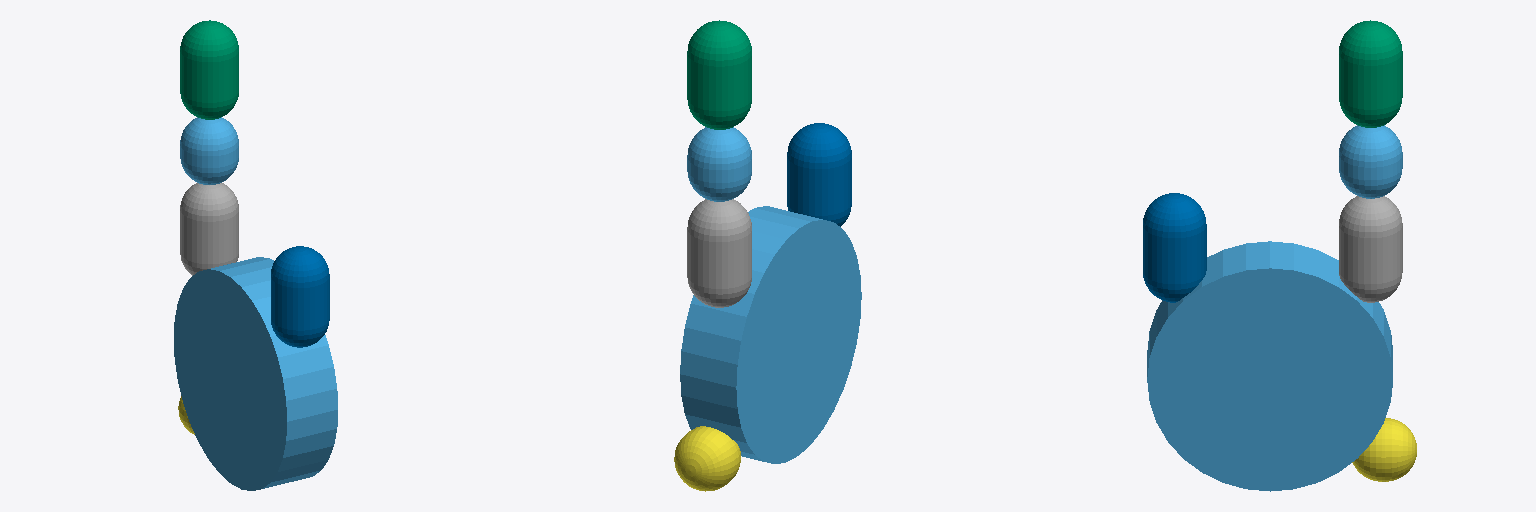
URDF robot description (DexterousHand):
<?xml version="1.0"?>
<robot name="DexterousHand">


    <link name="world"/>
    <joint name="world_to_palm" type="fixed">
        <parent link="world"/>
        <child link="palm"/>
        <origin xyz="0 0 0" rpy="0 0 0"/>
    </joint>
    <link name="palm">
        <inertial>
            <origin xyz="0 0 0.057" rpy="0 0 0"/>
            <mass value="0.30212892864"/>
            <inertia ixx="0.00049080844457568" ixy="0.0" ixz="0.0" iyy="0.00026746366246427523" iyz="0.0" izz="0.00026746366246427523"/>
        </inertial>
        <visual>
            <origin xyz="0 0 0.057" rpy="1.5708 0 1.5708"/>
            <geometry>
                <cylinder radius="0.057" length="0.0296"/>
            </geometry>
            <material name="default"/>
        </visual>
        <collision>
            <origin xyz="0 0 0.057" rpy="1.5708 0 1.5708"/>
            <geometry>
                <cylinder radius="0.057" length="0.0296"/>
            </geometry>
        </collision>
    </link>

    
    <joint name="thumb_joint1" type="revolute">
        <parent link="palm"/>
        <child link="thumb_base"/>
        <origin xyz="0.0029 0.0368 0.0157" rpy="-1.5708 -1.5708 0.0"/>
        <axis xyz="-1 0 0"/>
        <limit lower="-0.349" upper="2.094" effort="1.0" velocity="1.0"/>
    </joint>

    <link name="thumb_base"></link>

    <joint name="thumb_joint2" type="revolute">
        <parent link="thumb_base"/>
        <child link="thumb_proximal"/>
        <origin xyz="0.0 0.0 0.0" rpy="0.0 0.0 0.0"/>
        <axis xyz="0 0 1"/>
        <limit lower="-0.47" upper="2.443" effort="1.0" velocity="1.0"/>
    </joint>

    <link name="thumb_proximal">
        <inertial>
            <origin xyz="0 0 0.01565" rpy="0 0 0"/>
            <mass value="0.021538658803200002"/>
            <inertia ixx="2.9378910096388167e-06" ixy="0.0" ixz="0.0" 
            iyy="2.9378910096388167e-06" iyz="0.0" izz="2.358913912126464e-06"/>
        </inertial>
        <visual>
            <origin xyz="0 0 0.01565" rpy="0 0 0"/>
            <geometry>
                <cylinder radius="0.0148" length="0.0017000000000000001"/>
            </geometry>
            <material name="default"/>
        </visual>
        <visual>
            <origin xyz="0 0 0.0148" rpy="0 0 0"/>
            <geometry>
                <sphere radius="0.0148"/>
            </geometry>
            <material name="default"/>
        </visual>
        <visual>
            <origin xyz="0 0 0.0165" rpy="0 0 0"/>
            <geometry>
                <sphere radius="0.0148"/>
            </geometry>
            <material name="default"/>
        </visual>
        <collision>
            <origin xyz="0 0 0.01565" rpy="0 0 0"/>
            <geometry>
                <cylinder radius="0.0148" length="0.0017000000000000001"/>
            </geometry>
        </collision>
        <collision>
            <origin xyz="0 0 0.0148" rpy="0 0 0"/>
            <geometry>
                <sphere radius="0.0148"/>
            </geometry>
        </collision>
        <collision>
            <origin xyz="0 0 0.0165" rpy="0 0 0"/>
            <geometry>
                <sphere radius="0.0148"/>
            </geometry>
        </collision>
    </link>

    <joint name="thumb_joint3" type="revolute">
        <parent link="thumb_proximal"/>
        <child link="thumb_knuckle"/>
        <origin xyz="0.0 0.0 0.0" rpy="0.0 0.0 0.0"/>
        <axis xyz="1 0 0"/>
        <limit lower="0.0" upper="0.0" effort="1.0" velocity="1.0"/>
    </joint>

    <link name="thumb_knuckle"></link>

    <joint name="thumb_joint4" type="revolute">
        <parent link="thumb_knuckle"/>
        <child link="thumb_middle"/>
        <origin xyz="0 0 0" rpy="0 0 0"/> 
        <axis xyz="0 1 0"/>
        <limit lower="0.0" upper="0.0" effort="1.0" velocity="1.0"/>
    </joint>

    <link name="thumb_middle">
    </link>

    <joint name="thumb_joint5" type="revolute">
        <parent link="thumb_middle"/>
        <child link="thumb_distal"/>
        <origin xyz="0 0 0" rpy="0 0 0"/> 
        <axis xyz="0 1 0"/>
        <limit lower="0.0" upper="0.0" effort="1.0" velocity="1.0"/>
    </joint>

    <link name="thumb_distal">
    </link>

    
    <joint name="index_joint1" type="revolute">
        <parent link="palm"/>
        <child link="index_proximal"/>
        <origin xyz="0.0 0.0465 0.091" rpy="0.0 0.0 0.0"/>
        <axis xyz="0 1 0"/>
        <limit lower="-0.314" upper="2.23" effort="1.0" velocity="1.0"/>
    </joint>

    <link name="index_proximal">
        <inertial>
            <origin xyz="0 0 0.02655" rpy="0 0 0"/>
            <mass value="0.036540024998400006"/>
            <inertia ixx="1.058665009272394e-05" ixy="0.0" ixz="0.0" 
            iyy="1.058665009272394e-05" iyz="0.0" izz="4.001863537824769e-06"/>
        </inertial>
        <visual>
            <origin xyz="0 0 0.02655" rpy="0 0 0"/>
            <geometry>
                <cylinder radius="0.0148" length="0.0235"/>
            </geometry>
            <material name="default"/>
        </visual>
        <visual>
            <origin xyz="0 0 0.0148" rpy="0 0 0"/>
            <geometry>
                <sphere radius="0.0148"/>
            </geometry>
            <material name="default"/>
        </visual>
        <visual>
            <origin xyz="0 0 0.0383" rpy="0 0 0"/>
            <geometry>
                <sphere radius="0.0148"/>
            </geometry>
            <material name="default"/>
        </visual>
        <collision>
            <origin xyz="0 0 0.02655" rpy="0 0 0"/>
            <geometry>
                <cylinder radius="0.0148" length="0.0235"/>
            </geometry>
        </collision>
        <collision>
            <origin xyz="0 0 0.0148" rpy="0 0 0"/>
            <geometry>
                <sphere radius="0.0148"/>
            </geometry>
        </collision>
        <collision>
            <origin xyz="0 0 0.0383" rpy="0 0 0"/>
            <geometry>
                <sphere radius="0.0148"/>
            </geometry>
        </collision>
    </link>

    <joint name="index_joint2" type="revolute">
        <parent link="index_proximal"/>
        <child link="index_dummy"/>
        <origin xyz="0.0 0.0 0.038" rpy="0.0 0.0 0.0"/>
        <axis xyz="1 0 0"/>
        <limit lower="-1.047" upper="1.047" effort="1.0" velocity="1.0"/>
    </joint>

    <link name="index_dummy"></link>

    <joint name="index_joint3" type="revolute">
        <parent link="index_dummy"/>
        <child link="index_middle"/>
        <origin xyz="0 0 0.015100000000000002" rpy="0 0 0"/>
        <axis xyz="0 1 0"/>
        <limit lower="-0.506" upper="1.885" effort="1.0" velocity="1.0"/>
    </joint>

    <link name="index_middle">
        <inertial>
            <origin xyz="0 0 0.01805" rpy="0 0 0"/>
            <mass value="0.0248417119104"/>
            <inertia ixx="4.058162759109537e-06" ixy="0.0" ixz="0.0" 
            iyy="4.058162759109537e-06" iyz="0.0" izz="2.7206642884270085e-06"/>
        </inertial>
        <visual>
            <origin xyz="0 0 0.01805" rpy="0 0 0"/>
            <geometry>
                <cylinder radius="0.0148" length="0.006499999999999999"/>
            </geometry>
            <material name="default"/>
        </visual>
        <visual>
            <origin xyz="0 0 0.0148" rpy="0 0 0"/>
            <geometry>
                <sphere radius="0.0148"/>
            </geometry>
            <material name="default"/>
        </visual>
        <visual>
            <origin xyz="0 0 0.0213" rpy="0 0 0"/>
            <geometry>
                <sphere radius="0.0148"/>
            </geometry>
            <material name="default"/>
        </visual>
        <collision>
            <origin xyz="0 0 0.01805" rpy="0 0 0"/>
            <geometry>
                <cylinder radius="0.0148" length="0.006499999999999999"/>
            </geometry>
        </collision>
        <collision>
            <origin xyz="0 0 0.0148" rpy="0 0 0"/>
            <geometry>
                <sphere radius="0.0148"/>
            </geometry>
        </collision>
        <collision>
            <origin xyz="0 0 0.0213" rpy="0 0 0"/>
            <geometry>
                <sphere radius="0.0148"/>
            </geometry>
        </collision>
    </link>

    <joint name="index_joint4" type="revolute">
        <parent link="index_middle"/>
        <child link="index_distal"/>
        <origin xyz="0 0 0.0361" rpy="0 0 0"/> 
        <axis xyz="0 1 0"/>
        <limit lower="-0.366" upper="2.042" effort="1.0" velocity="1.0"/>
    </joint>

    <link name="index_distal">
        <inertial>
            <origin xyz="0 0 0.026" rpy="0 0 0"/>
            <mass value="0.035783075328"/>
            <inertia ixx="1.002260084553728e-05" ixy="0.0" ixz="0.0" 
            iyy="1.002260084553728e-05" iyz="0.0" izz="3.91896240992256e-06"/>
        </inertial>
        <visual>
            <origin xyz="0 0 0.026" rpy="0 0 0"/>
            <geometry>
                <cylinder radius="0.0148" length="0.022399999999999996"/>
            </geometry>
            <material name="default"/>
        </visual>
        <visual>
            <origin xyz="0 0 0.0148" rpy="0 0 0"/>
            <geometry>
                <sphere radius="0.0148"/>
            </geometry>
            <material name="default"/>
        </visual>
        <visual>
            <origin xyz="0 0 0.0372" rpy="0 0 0"/>
            <geometry>
                <sphere radius="0.0148"/>
            </geometry>
            <material name="default"/>
        </visual>
        <collision>
            <origin xyz="0 0 0.026" rpy="0 0 0"/>
            <geometry>
                <cylinder radius="0.0148" length="0.022399999999999996"/>
            </geometry>
        </collision>
        <collision>
            <origin xyz="0 0 0.0148" rpy="0 0 0"/>
            <geometry>
                <sphere radius="0.0148"/>
            </geometry>
        </collision>
        <collision>
            <origin xyz="0 0 0.0372" rpy="0 0 0"/>
            <geometry>
                <sphere radius="0.0148"/>
            </geometry>
        </collision>
    </link>

    
    <joint name="middle_joint1" type="revolute">
        <parent link="palm"/>
        <child link="middle_proximal"/>
        <origin xyz="0.0 0.0 0.0" rpy="0.0 0.0 0.0"/>
        <axis xyz="1 0 0"/>
        <limit lower="0.0" upper="0.0" effort="1.0" velocity="1.0"/>
    </joint>

    <link name="middle_proximal">
    </link>

    <joint name="middle_joint2" type="revolute">
        <parent link="middle_proximal"/>
        <child link="middle_dummy"/>
        <origin xyz="0.0 0.0 0.0" rpy="0.0 0.0 0.0"/>
        <axis xyz="0 1 0"/>
        <limit lower="0.0" upper="0.0" effort="1.0" velocity="1.0"/>
    </joint>

    <link name="middle_dummy"></link>

    <joint name="middle_joint3" type="revolute">
        <parent link="middle_dummy"/>
        <child link="middle_middle"/>
        <origin xyz="0 0 0" rpy="0 0 0"/>
        <axis xyz="0 1 0"/>
        <limit lower="0.0" upper="0.0" effort="1.0" velocity="1.0"/>
    </joint>

    <link name="middle_middle">
    </link>

    <joint name="middle_joint4" type="revolute">
        <parent link="middle_middle"/>
        <child link="middle_distal"/>
        <origin xyz="0 0 0" rpy="0 0 0"/> 
        <axis xyz="0 1 0"/>
        <limit lower="0.0" upper="0.0" effort="1.0" velocity="1.0"/>
    </joint>

    <link name="middle_distal">
    </link>

    
    <joint name="ring_joint1" type="revolute">
        <parent link="palm"/>
        <child link="ring_proximal"/>
        <origin xyz="0.0 0.0 0.0" rpy="0.0 0.0 0.0"/>
        <axis xyz="1 0 0"/>
        <limit lower="0.0" upper="0.0" effort="1.0" velocity="1.0"/>
    </joint>

    <link name="ring_proximal">
    </link>

    <joint name="ring_joint2" type="revolute">
        <parent link="ring_proximal"/>
        <child link="ring_dummy"/>
        <origin xyz="0.0 0.0 0.0" rpy="0.0 0.0 0.0"/>
        <axis xyz="0 1 0"/>
        <limit lower="0.0" upper="0.0" effort="1.0" velocity="1.0"/>
    </joint>

    <link name="ring_dummy"></link>

    <joint name="ring_joint3" type="revolute">
        <parent link="ring_dummy"/>
        <child link="ring_middle"/>
        <origin xyz="0 0 0" rpy="0 0 0"/>
        <axis xyz="0 1 0"/>
        <limit lower="0.0" upper="0.0" effort="1.0" velocity="1.0"/>
    </joint>

    <link name="ring_middle">
    </link>

    <joint name="ring_joint4" type="revolute">
        <parent link="ring_middle"/>
        <child link="ring_distal"/>
        <origin xyz="0 0 0" rpy="0 0 0"/> 
        <axis xyz="0 1 0"/>
        <limit lower="0.0" upper="0.0" effort="1.0" velocity="1.0"/>
    </joint>

    <link name="ring_distal">
    </link>

    
    <joint name="little_joint0" type="revolute">
        <parent link="palm"/>
        <child link="little_base"/>
        <origin xyz="0.0 0.0 0.0" rpy="0.0 0.0 0.0"/>
        <axis xyz="0 1 0"/>
        <limit lower="0.0" upper="0.0" effort="1.0" velocity="1.0"/>
    </joint>

    <link name="little_base"></link>

    <joint name="little_joint1" type="revolute">
        <parent link="little_base"/>
        <child link="little_proximal"/>
        <origin xyz="0.0 -0.0443 0.091" rpy="-0.0 -0.0 -0.0"/>
        <axis xyz="0 1 0"/>
        <limit lower="-0.314" upper="2.23" effort="1.0" velocity="1.0"/>
    </joint>

    <link name="little_proximal">
        <inertial>
            <origin xyz="0 0 0.02655" rpy="0 0 0"/>
            <mass value="0.036540024998400006"/>
            <inertia ixx="1.058665009272394e-05" ixy="0.0" ixz="0.0" 
            iyy="1.058665009272394e-05" iyz="0.0" izz="4.001863537824769e-06"/>
        </inertial>
        <visual>
            <origin xyz="0 0 0.02655" rpy="0 0 0"/>
            <geometry>
                <cylinder radius="0.0148" length="0.0235"/>
            </geometry>
            <material name="default"/>
        </visual>
        <visual>
            <origin xyz="0 0 0.0148" rpy="0 0 0"/>
            <geometry>
                <sphere radius="0.0148"/>
            </geometry>
            <material name="default"/>
        </visual>
        <visual>
            <origin xyz="0 0 0.0383" rpy="0 0 0"/>
            <geometry>
                <sphere radius="0.0148"/>
            </geometry>
            <material name="default"/>
        </visual>
        <collision>
            <origin xyz="0 0 0.02655" rpy="0 0 0"/>
            <geometry>
                <cylinder radius="0.0148" length="0.0235"/>
            </geometry>
        </collision>
        <collision>
            <origin xyz="0 0 0.0148" rpy="0 0 0"/>
            <geometry>
                <sphere radius="0.0148"/>
            </geometry>
        </collision>
        <collision>
            <origin xyz="0 0 0.0383" rpy="0 0 0"/>
            <geometry>
                <sphere radius="0.0148"/>
            </geometry>
        </collision>
    </link>

    <joint name="little_joint2" type="revolute">
        <parent link="little_proximal"/>
        <child link="little_dummy"/>
        <origin xyz="0.0 0.0 0.038" rpy="0.0 0.0 0.0"/>
        <axis xyz="0 1 0"/>
        <limit lower="0.0" upper="0.0" effort="1.0" velocity="1.0"/>
    </joint>

    <link name="little_dummy"></link>

    <joint name="little_joint3" type="revolute">
        <parent link="little_dummy"/>
        <child link="little_middle"/>
        <origin xyz="0 0 0.015100000000000002" rpy="0 0 0"/>
        <axis xyz="0 1 0"/>
        <limit lower="0.0" upper="0.0" effort="1.0" velocity="1.0"/>
    </joint>

    <link name="little_middle">
    </link>

    <joint name="little_joint4" type="revolute">
        <parent link="little_middle"/>
        <child link="little_distal"/>
        <origin xyz="0 0 0" rpy="0 0 0"/>
        <axis xyz="0 1 0"/>
        <limit lower="0.0" upper="0.0" effort="1.0" velocity="1.0"/>
    </joint>

    <link name="little_distal">
    </link>

</robot>

--- Render facts (derived) ---
3 views of the same robot in one strip: view 1: azimuth 30°, elevation 25°; view 2: azimuth 150°, elevation 25°; view 3: azimuth 270°, elevation 25° (orthographic).
Model DexterousHand with 24 links and 23 joints (22 revolute, 1 fixed), rooted at world, posed all joints at 0.
Links seen in each view (by area): view 1: palm, little_proximal, index_distal, index_proximal, index_middle; view 2: palm, index_proximal, index_distal, little_proximal, index_middle, thumb_proximal; view 3: palm, index_distal, little_proximal, index_proximal, index_middle, thumb_proximal.
Boxes of the visible links, bbox=[...] form: palm: bbox=[174, 257, 337, 490]; little_proximal: bbox=[271, 246, 329, 347]; index_distal: bbox=[180, 20, 238, 119]; index_proximal: bbox=[180, 183, 238, 275]; index_middle: bbox=[180, 117, 238, 184]; palm: bbox=[680, 206, 861, 463]; index_proximal: bbox=[687, 199, 751, 307]; index_distal: bbox=[687, 20, 751, 129]; little_proximal: bbox=[787, 123, 851, 226]; index_middle: bbox=[687, 127, 751, 201]; thumb_proximal: bbox=[674, 426, 740, 491]; palm: bbox=[1147, 241, 1392, 491]; index_distal: bbox=[1339, 20, 1402, 127]; little_proximal: bbox=[1143, 193, 1206, 302]; index_proximal: bbox=[1339, 196, 1402, 302]; index_middle: bbox=[1339, 125, 1402, 198]; thumb_proximal: bbox=[1352, 418, 1416, 481].
Bounding box of the posed robot: 0.0325 × 0.1272 × 0.2322 m (x, y, z).
Geometry: primitives only (box / cylinder / sphere), no mesh files.
